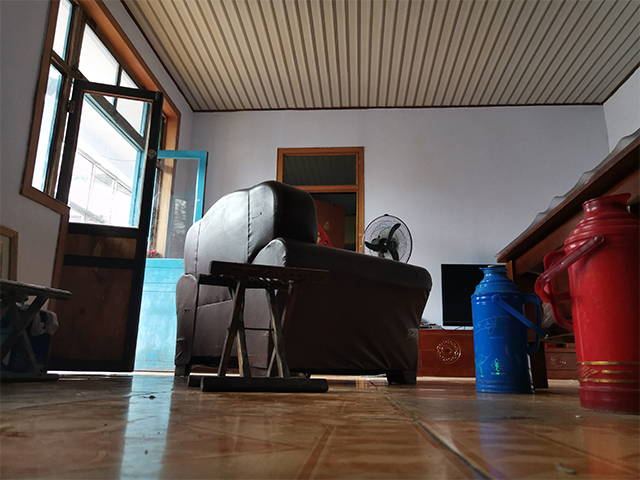cabinet: (412, 327, 479, 380)
sofa: (171, 178, 434, 386)
stool: (185, 258, 332, 394), (1, 278, 73, 383)
